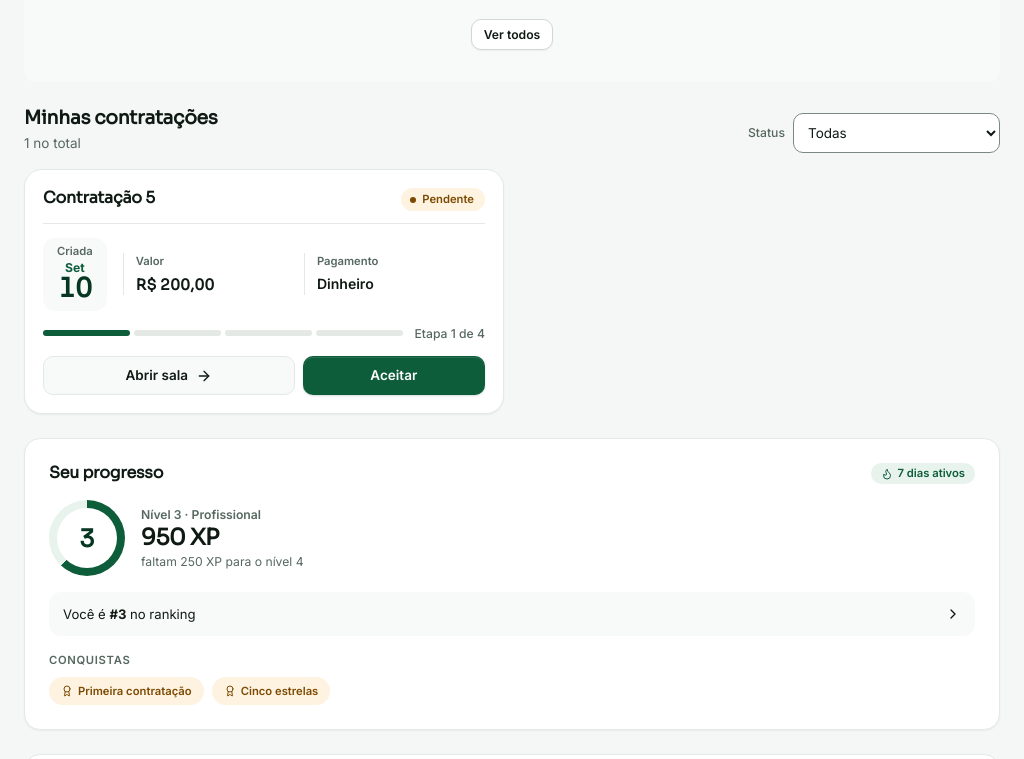
Test case: InicioView › proposta recebida: dá para aceitar daqui, e recusar só na Sala
This screenshot has width=1024, height=759.
(page scrolled)
Click the button "Aceitar".
click(394, 376)  # box [302, 356, 485, 395]
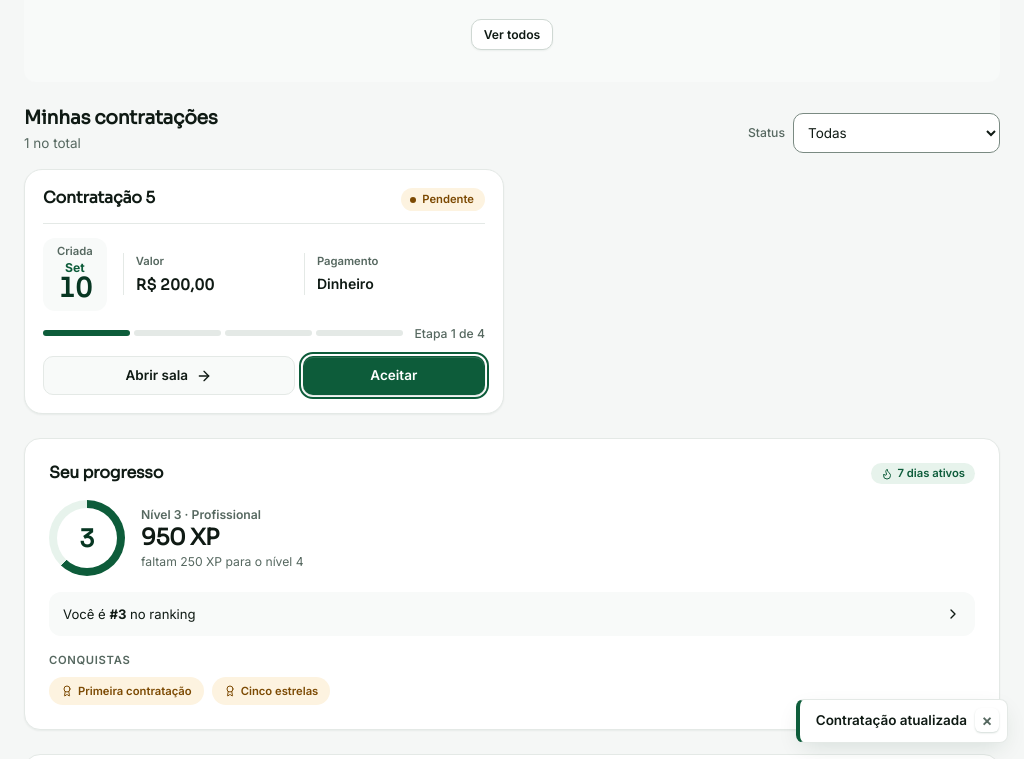
Expected: the text "Contratação atualizada" is shown, [816, 711, 967, 731]
